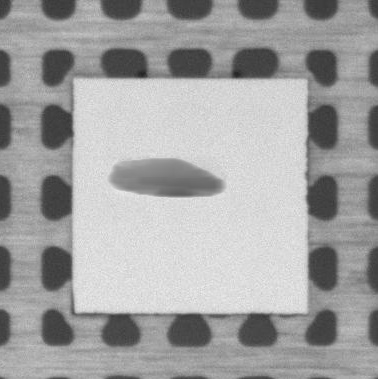DIE_INK: (109, 157, 224, 201)
